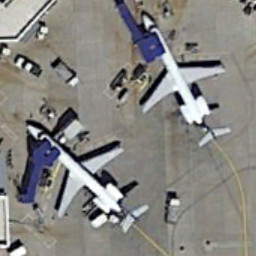Airplane: (15, 115, 155, 239), (134, 8, 236, 151)
